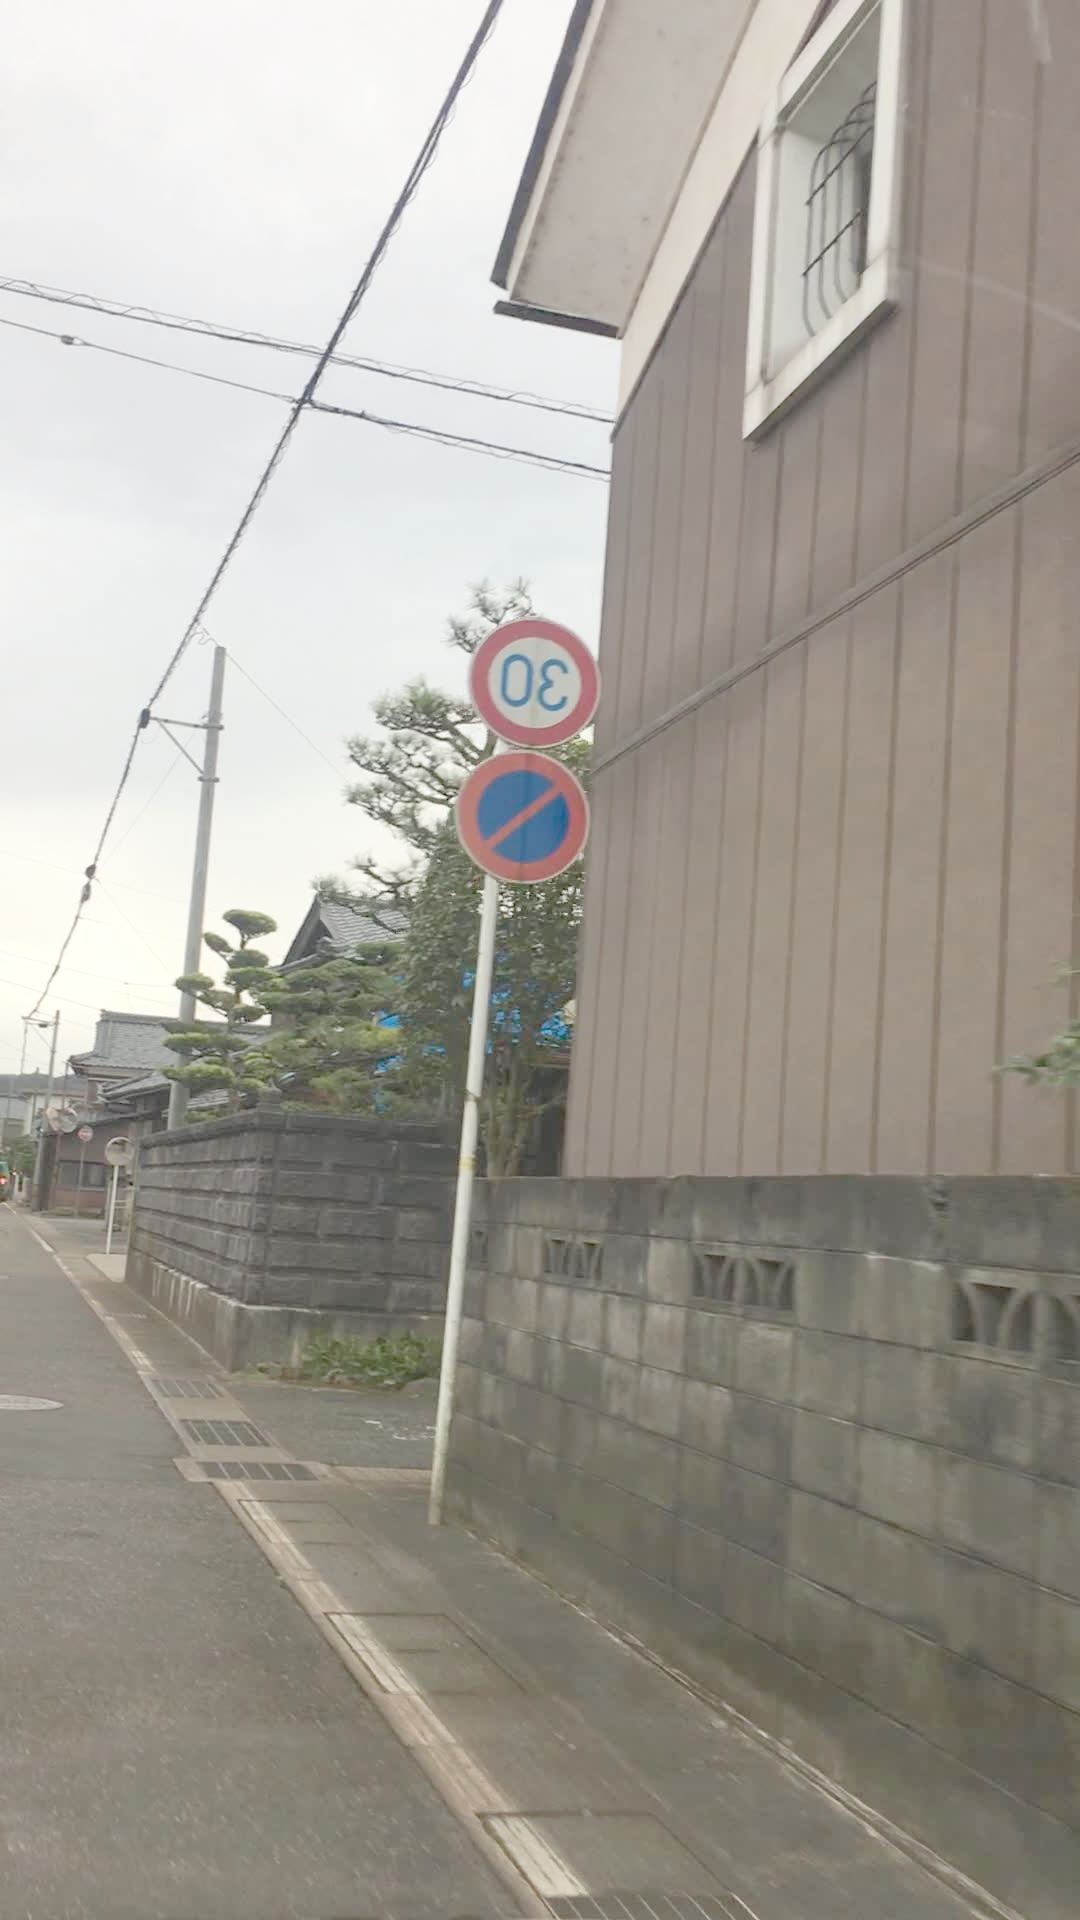Prohibition_sign: (458, 740, 612, 906)
Speed_sign: (460, 611, 615, 764)
